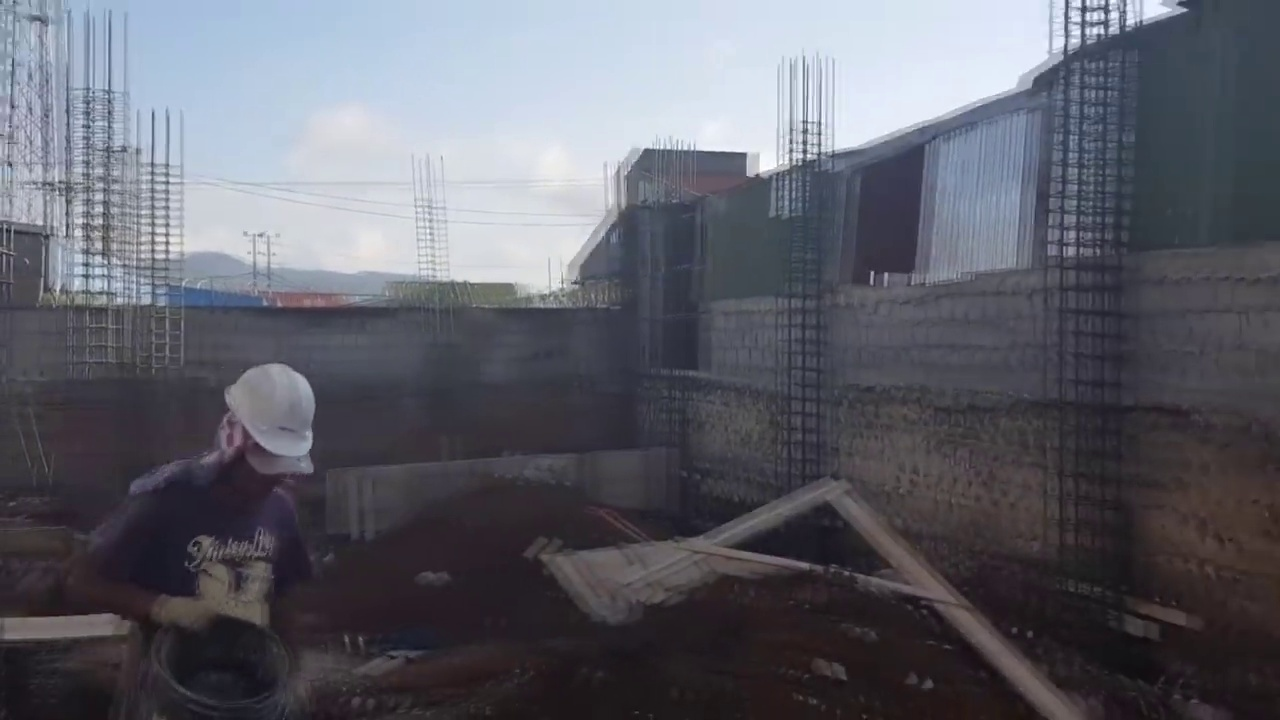helmet: (216, 369, 320, 455)
helmet-on: (187, 374, 320, 508)
person: (84, 360, 327, 718)
